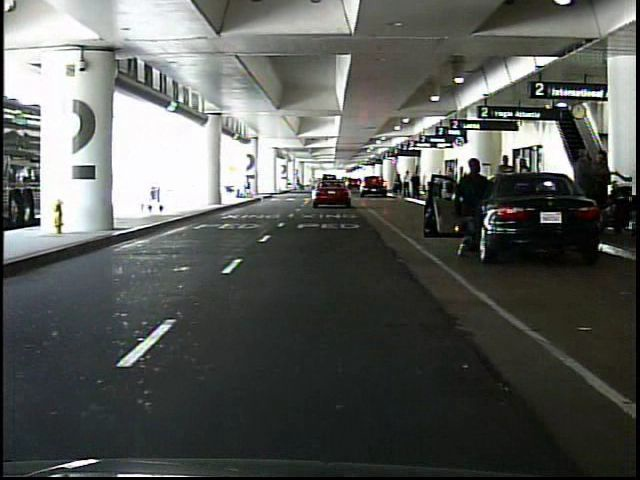person: (576, 147, 614, 238), (457, 155, 487, 263), (570, 144, 599, 228), (496, 153, 518, 216), (517, 157, 535, 215), (403, 169, 413, 199), (412, 171, 422, 200), (396, 174, 404, 197), (294, 176, 303, 193)
